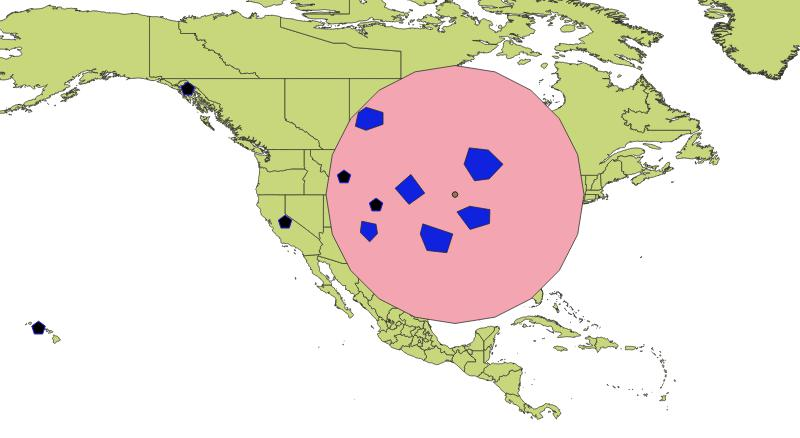

What the dashboard file says about the page in this screenshot:
{"tool":"tableau","page":{"name":"Map of Higher Ed Degrees","canvas":[1000,800],"ordinal":1},"visuals":[{"type":"worksheet","title":"Map","mark":"Automatic","box":[8,8,984,784]},{"type":"legend","title":"Map","param":"[federated.08yv7lo1pgmnho1asp2lq1pnhtfd].[sum:Total_Population_25_over_Bachelor'","box":[243,88,477,29]}]}

Visuals, with their boxes on the page's 1000x800 design canvas (x1, y1, x2, y2). These are canvas units, not pixel positions in the 800x438 screenshot, which may show the page scaled, cropped or inside an application window:
"Map" worksheet: box(8, 8, 992, 792)
"Map" legend: box(243, 88, 720, 117)
